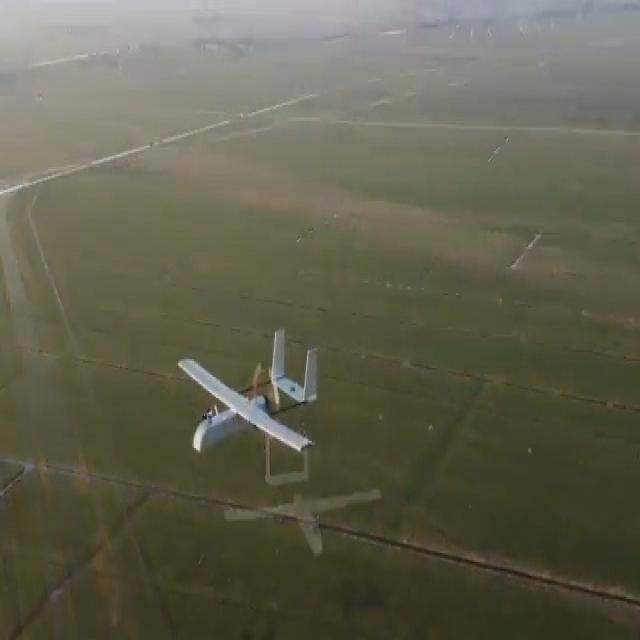drones: (173, 324, 326, 496)
